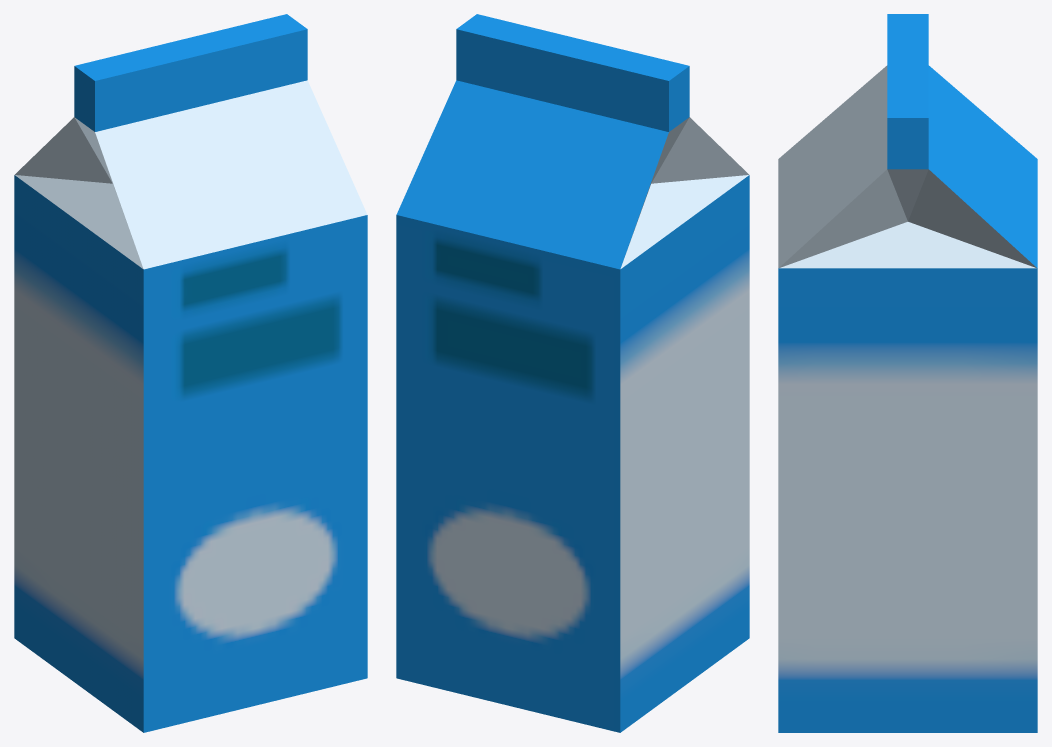
The model's file is SM_Prop_Product_Milk_01.obj.
The picture shows the model from 3 angles, left to right: view 1: azimuth 30°, elevation 25°; view 2: azimuth 150°, elevation 25°; view 3: azimuth 270°, elevation 25°; orthographic projection.
Parts seen in each view (by area): view 1: SM_Prop_Product_Milk_01_0; view 2: SM_Prop_Product_Milk_01_0; view 3: SM_Prop_Product_Milk_01_0.
Part boxes in pixels (x1,y1,x2,y2): SM_Prop_Product_Milk_01_0: (14, 14, 367, 732); SM_Prop_Product_Milk_01_0: (396, 14, 749, 732); SM_Prop_Product_Milk_01_0: (778, 14, 1037, 732).
Bounding box in the file's own units: 0.1818 × 0.474 × 0.1818.
1 material, 1 textured.
